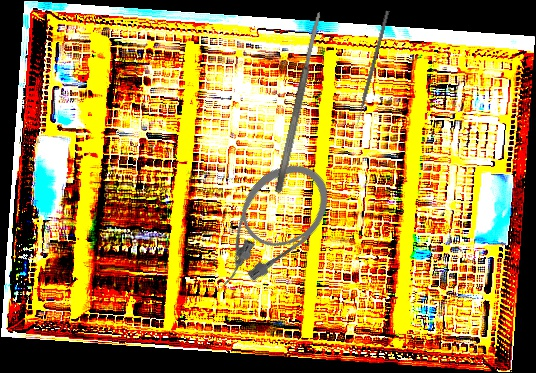Cannula: (189, 147, 346, 304)
Pusher: (353, 10, 390, 132)
Spatula Surgical: (273, 10, 325, 194)
